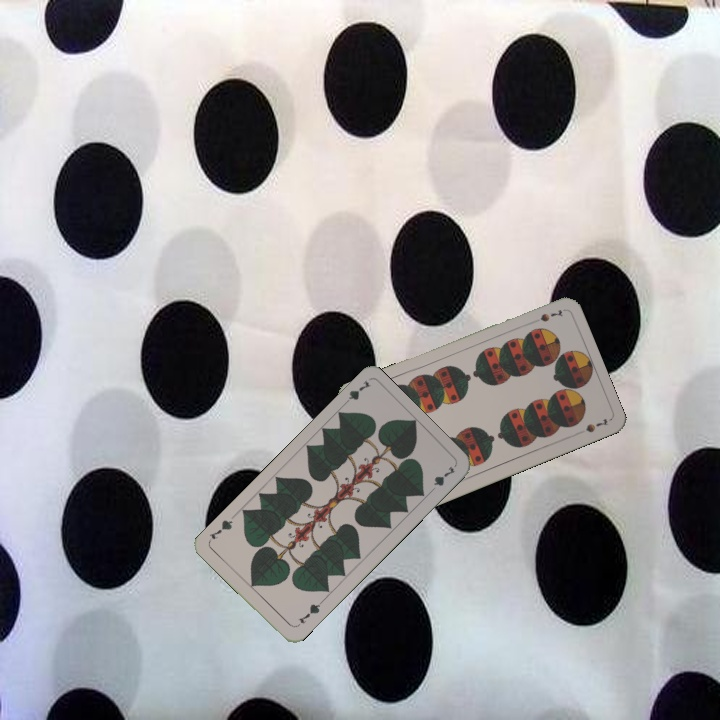G7: (338, 376, 374, 409), (294, 597, 324, 626)
S7: (526, 305, 566, 326)
